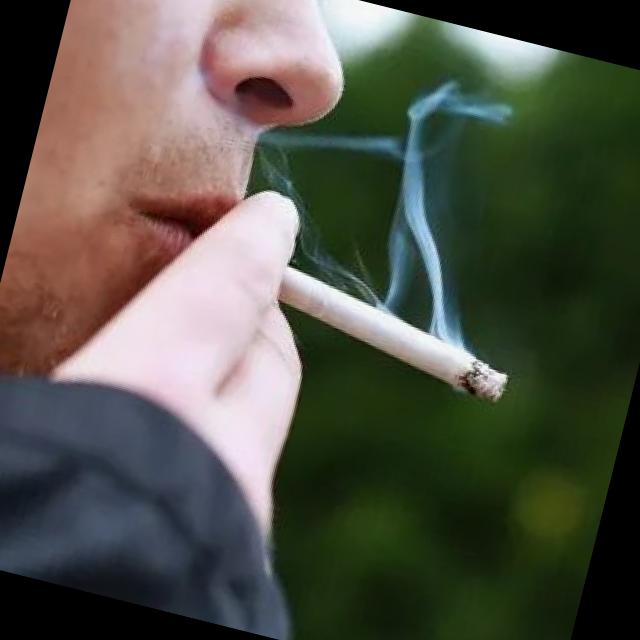smoke: (255, 256, 527, 411)
